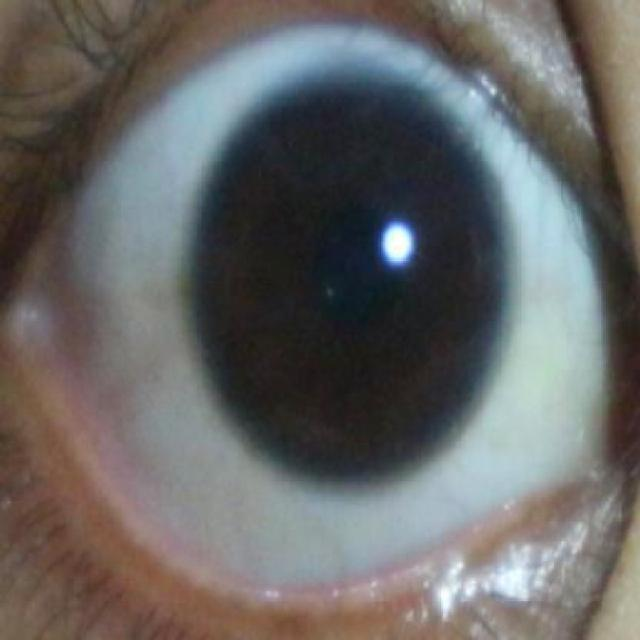Normal: (192, 75, 510, 481)
